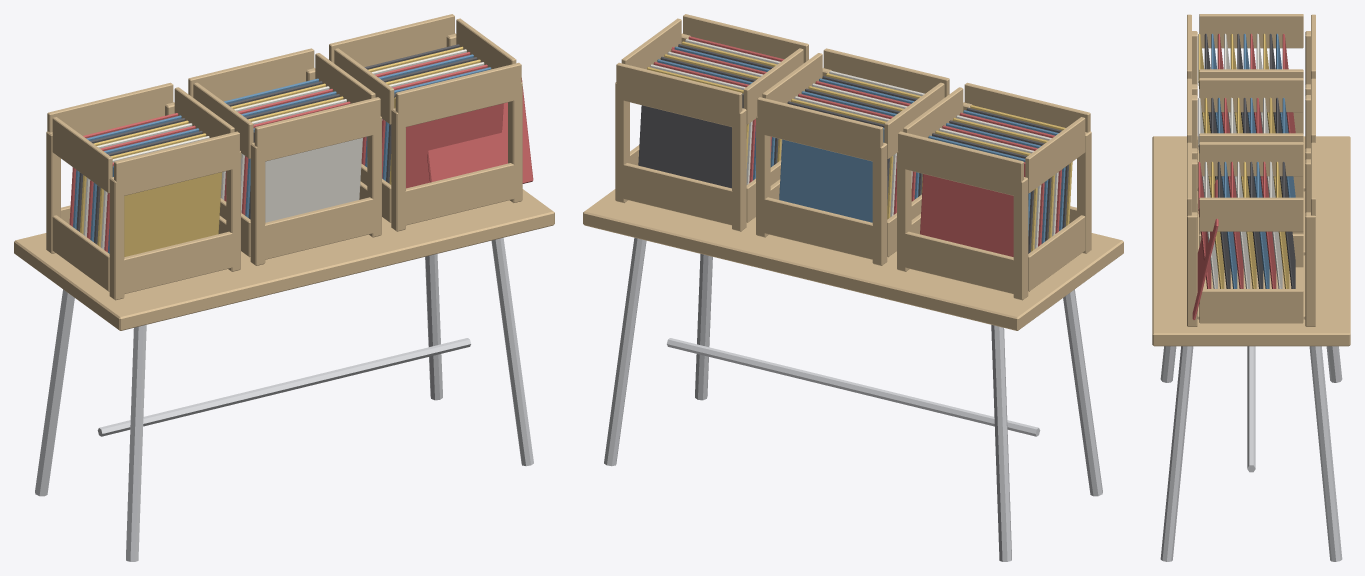
Rendered from indoor-market-hall-and-traders-vinyl-record-crate-set-672bf283.glb.
3 views of the same model, side by side, from view 1: azimuth 30°, elevation 25°; view 2: azimuth 150°, elevation 25°; view 3: azimuth 270°, elevation 25° (orthographic). The views are drawn at different scales.
Visible parts, largest first — view 1: vinyl-record-crate-set; view 2: vinyl-record-crate-set; view 3: vinyl-record-crate-set.
Part boxes in pixels (bbox=[...]): vinyl-record-crate-set: bbox=[14, 14, 554, 561]; vinyl-record-crate-set: bbox=[583, 14, 1123, 561]; vinyl-record-crate-set: bbox=[1152, 14, 1350, 561].
Bounding box in the file's own units: 1.3 × 1.11 × 0.5499.
